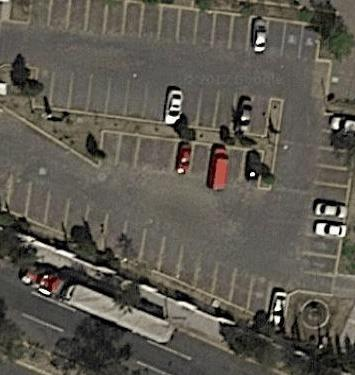parkingspot: (4, 169, 292, 331), (25, 0, 323, 63), (31, 65, 273, 137), (295, 110, 355, 296), (98, 127, 266, 193)
